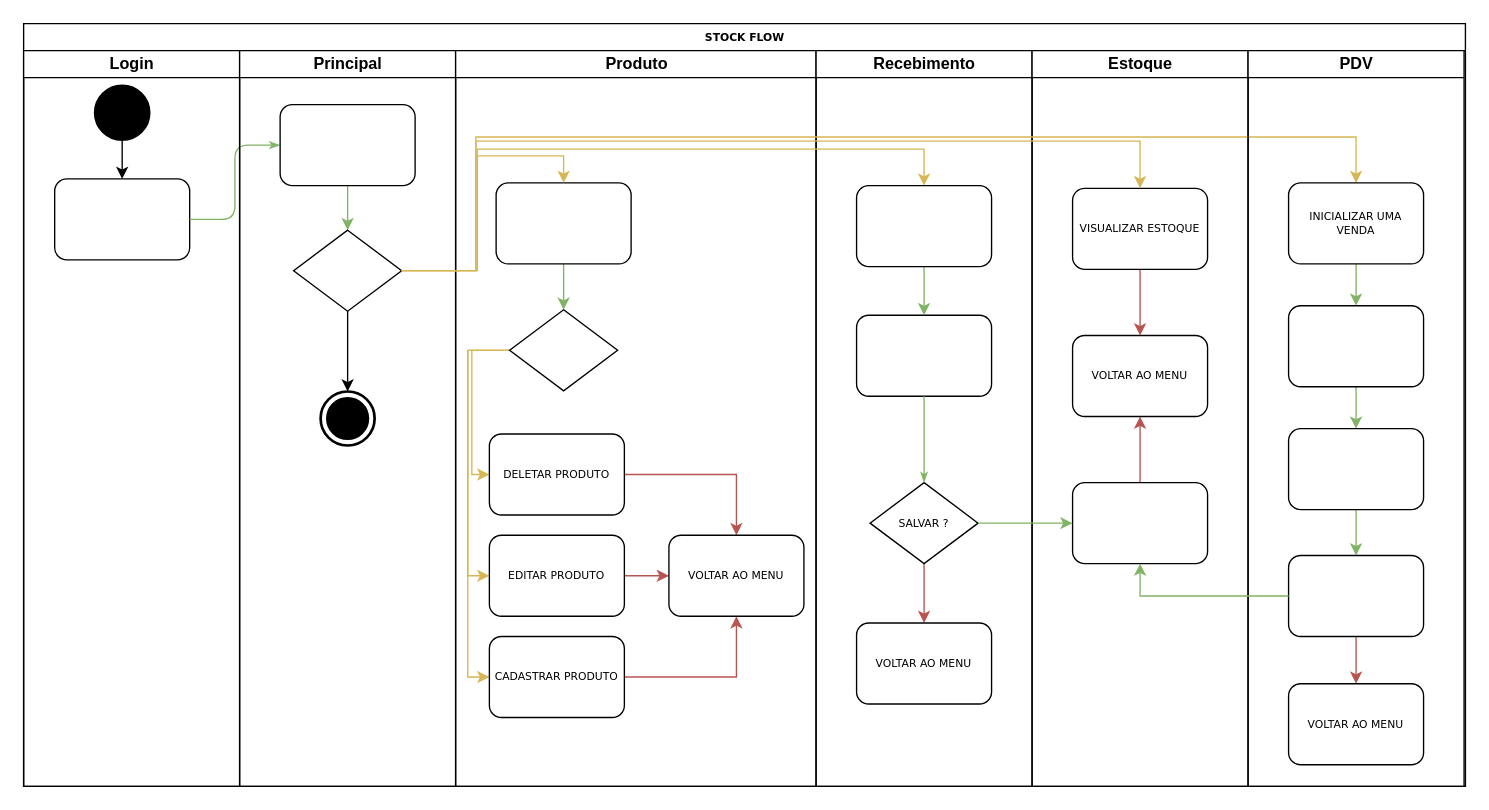
The diagram is 1489 pixels wide and 810 high, and some of its shapes have lost their labels. The centre of each missing label's shape, as x and y in pixels:
ALTERAR ESTOQUE: the point at 1139,522
EXIBIR PRODUTOS: the point at 563,223
FINALZAR VENDA: the point at 1355,595
LOGAR: the point at 121,219
REALIZAR ENTRADA NO ESTOQUE: the point at 923,355
REALIZAR RECEBIMENTO: the point at 923,225
SELECIONAR O QUE DESEJA REALIZAR: the point at 347,144
SELECIONAR PRODUTOS: the point at 1355,345
SELECIONAR QUANTIDADES: the point at 1355,468
